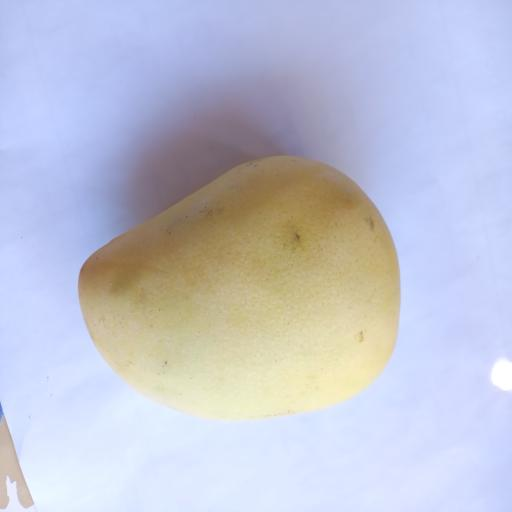mango-ripe: (60, 159, 420, 430)
